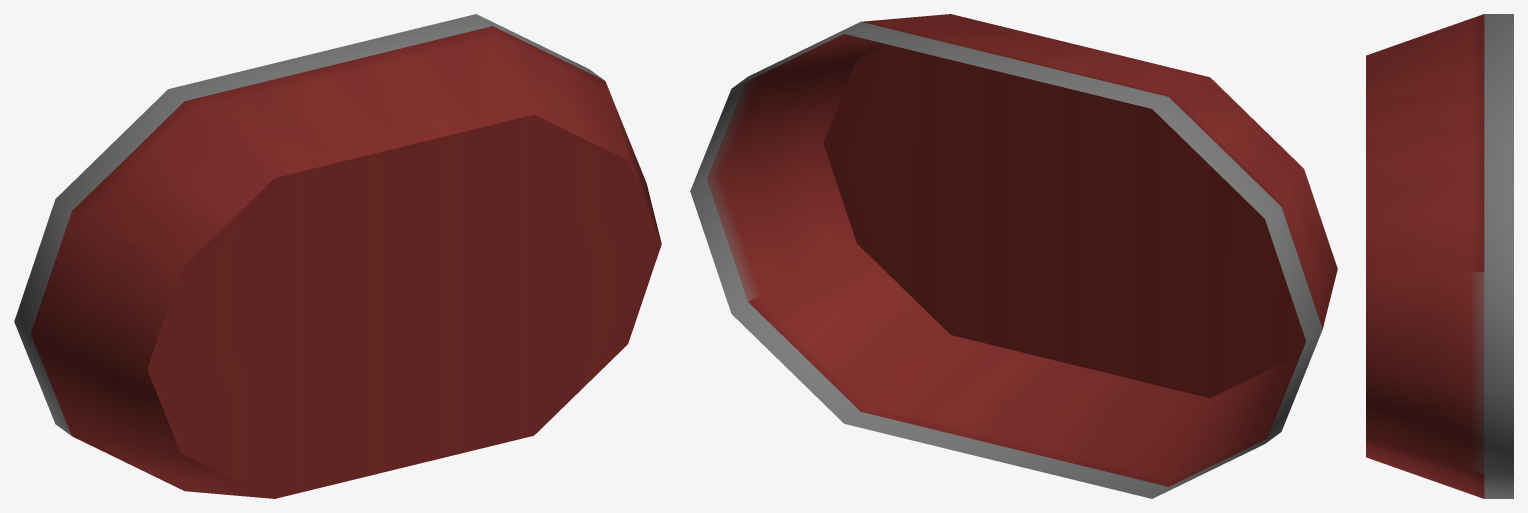
The model's file is RedLamp.fbx.
3 views of the same model, side by side, from view 1: azimuth 30°, elevation 25°; view 2: azimuth 150°, elevation 25°; view 3: azimuth 270°, elevation 25° (orthographic). The views are drawn at different scales.
Parts seen in each view (by area): view 1: Lampada; view 2: Lampada; view 3: Lampada.
Part boxes in pixels (left/top/right/bottom): Lampada: left=14, top=14, right=661, bottom=498; Lampada: left=690, top=14, right=1337, bottom=498; Lampada: left=1366, top=14, right=1513, bottom=498.
Bounding box in the file's own units: 14.32 × 8.66 × 3.31.
1 material, 1 textured.
